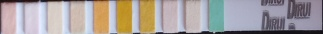color 1: (2, 3, 14, 32)
color 10: (210, 1, 222, 29)
color 2: (26, 4, 37, 31)
color 3: (47, 3, 60, 31)
color 4: (71, 3, 83, 32)
color 5: (95, 2, 107, 31)
color 6: (117, 2, 130, 31)
color 7: (141, 2, 153, 30)
color 8: (163, 2, 176, 31)
color 9: (187, 2, 199, 30)
